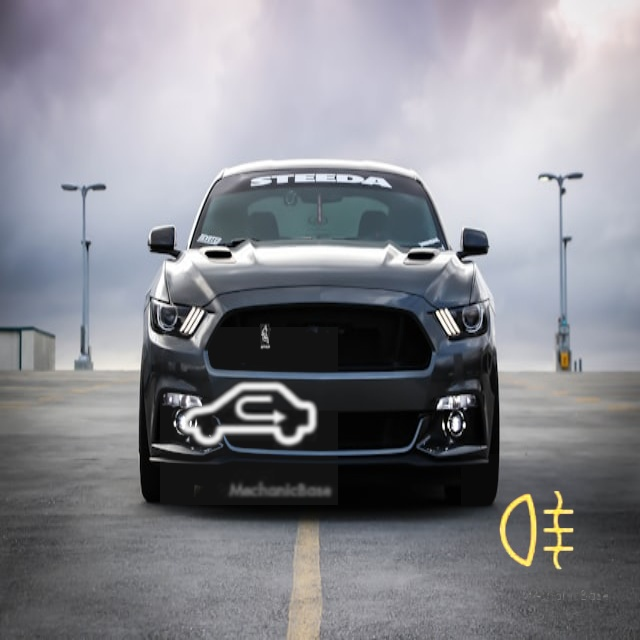symbol: (160, 327, 338, 505), (461, 454, 615, 608)
